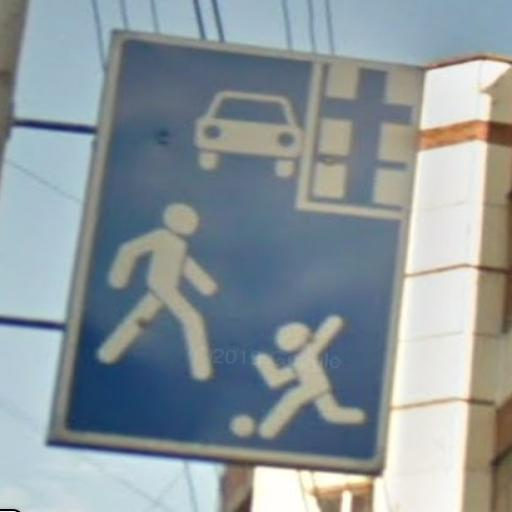traffic_sign: (48, 28, 428, 480)
